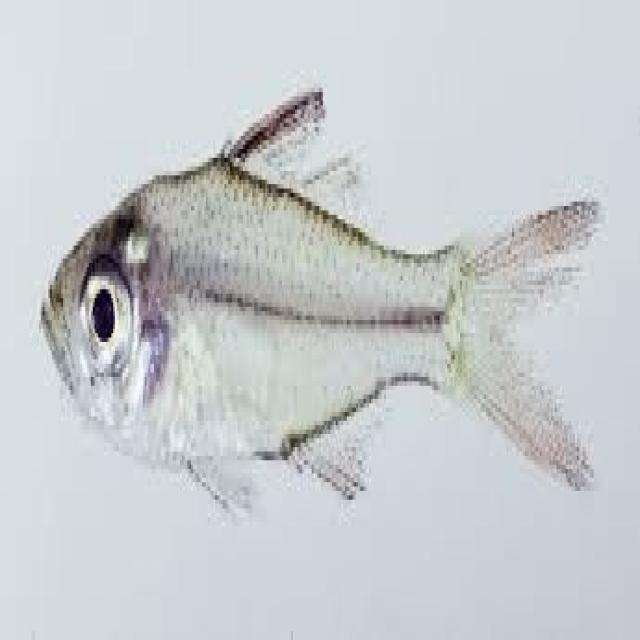Glass-Perchlet: (0, 61, 601, 574)
